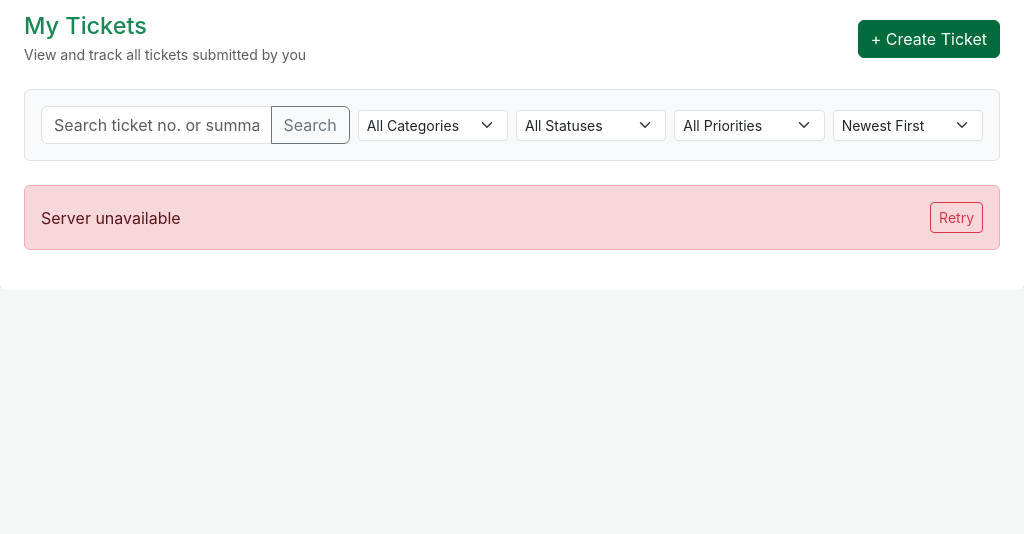
MyTickets Component (Issue 13 UI Tests) › UI-04: Displays error alert and handles retry on API failure
The image size is (1024, 534).
Check: the text "Server unavailable" is shown, box [41,206,181,230]
What coordinates should you click on to do the following:
click the button "Retry"
I would click on:
 (957, 218)
Its box is [930,202,983,233].
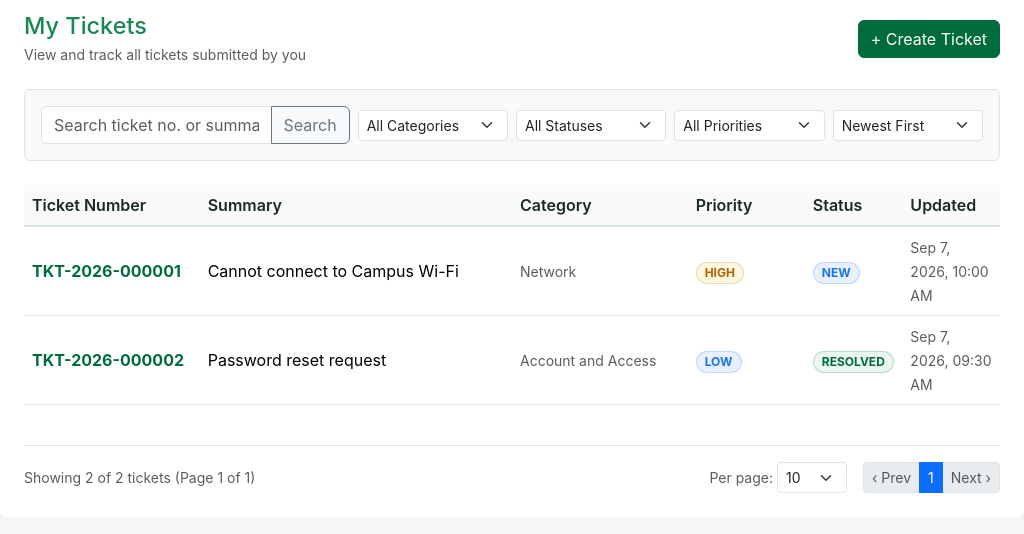
Check: the text "TKT-2026-000001" is shown, box [32,261,181,281]
